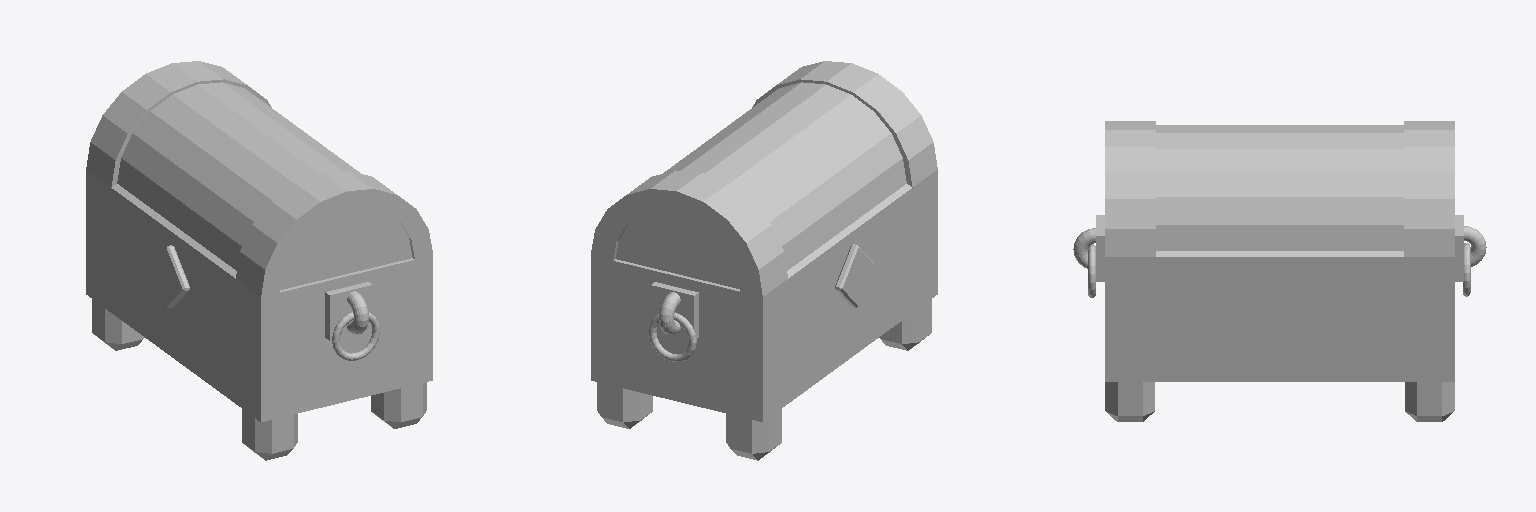
Rendered from chest.obj.
The picture shows the model from 3 angles: view 1: azimuth 30°, elevation 25°; view 2: azimuth 150°, elevation 25°; view 3: azimuth 270°, elevation 25°; orthographic projection.
Parts seen in each view (by area): view 1: CRATE TOP0, CRATE BODY0, CRATE LEG1, CRATE LEG2, CRATE LOCK0, CRATE LEG0, CRATE HANDLE1 BODY1, CRATE GRIP1 HANDLE1, CRATE HANDLE1 RING1; view 2: CRATE TOP0, CRATE BODY0, CRATE LEG0, LEG3 CRATE, CRATE LOCK0, CRATE LEG1, CRATE BODY0 HANDLE0, CRATE HANDLE0 GRIP0, CRATE HANDLE0 RING0; view 3: CRATE TOP0, CRATE BODY0, LEG3 CRATE, CRATE LEG2, CRATE BODY0 HANDLE0, CRATE HANDLE1 BODY1, CRATE HANDLE0 RING0, CRATE HANDLE1 RING1.
Boxes of the visible parts, x1,y1,x2,y2 form: CRATE TOP0: [86, 61, 432, 296]; CRATE BODY0: [86, 169, 432, 421]; CRATE LEG1: [242, 409, 297, 460]; CRATE LEG2: [371, 382, 426, 428]; CRATE LOCK0: [151, 245, 189, 308]; CRATE LEG0: [92, 299, 144, 350]; CRATE HANDLE1 BODY1: [325, 282, 372, 340]; CRATE GRIP1 HANDLE1: [332, 312, 379, 360]; CRATE HANDLE1 RING1: [347, 291, 368, 334]; CRATE TOP0: [591, 61, 937, 296]; CRATE BODY0: [591, 169, 937, 421]; CRATE LEG0: [726, 409, 781, 460]; LEG3 CRATE: [597, 382, 652, 428]; CRATE LOCK0: [835, 244, 874, 307]; CRATE LEG1: [879, 299, 931, 350]; CRATE BODY0 HANDLE0: [651, 282, 698, 339]; CRATE HANDLE0 GRIP0: [649, 312, 696, 361]; CRATE HANDLE0 RING0: [659, 292, 680, 334]; CRATE TOP0: [1105, 121, 1454, 256]; CRATE BODY0: [1105, 257, 1454, 381]; LEG3 CRATE: [1405, 382, 1454, 421]; CRATE LEG2: [1105, 382, 1154, 421]; CRATE BODY0 HANDLE0: [1455, 215, 1463, 281]; CRATE HANDLE1 BODY1: [1096, 215, 1104, 281]; CRATE HANDLE0 RING0: [1464, 226, 1486, 266]; CRATE HANDLE1 RING1: [1073, 228, 1095, 268].
Size of the model in its own units: 4.13 by 5.62 by 8.22.